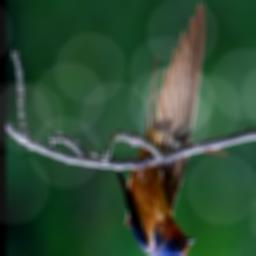Swallow: (109, 2, 209, 256)
